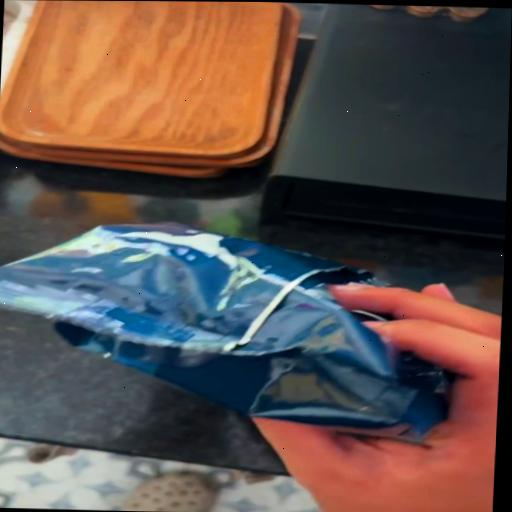cafe_hat: (0, 223, 452, 440)
